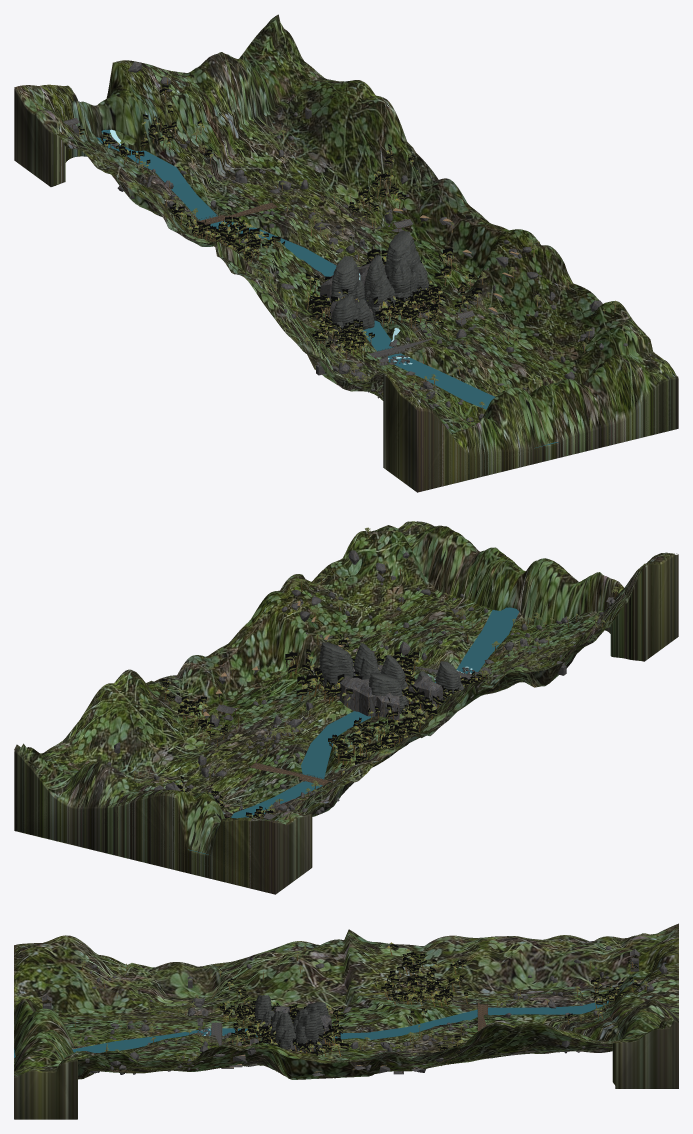
File: world005_LOD1.fbx
3 renders of one model, top to bottom at view 1: azimuth 30°, elevation 25°; view 2: azimuth 150°, elevation 25°; view 3: azimuth 270°, elevation 25°, orthographic. The views are drawn at different scales.
Parts seen in each view (by area): view 1: LODMesh_0434, LODMesh_0433, LODMesh_0570, LODMesh_0567, LODMesh_0569, LODMesh_0535, LODMesh_0564, LODMesh_0568, LODMesh_0561, LODMesh_0555, LODMesh_0566, LODMesh_0571 (+31 smaller); view 2: LODMesh_0433, LODMesh_0434, LODMesh_0568, LODMesh_0570, LODMesh_0567, LODMesh_0535, LODMesh_0569, LODMesh_0564, LODMesh_0571, LODMesh_0566, LODMesh_0561, LODMesh_0563 (+30 smaller); view 3: LODMesh_0434, LODMesh_0433, LODMesh_0536, LODMesh_0540, LODMesh_0538, LODMesh_0537, LODMesh_0539, LODMesh_0541, LODMesh_0535, LODMesh_0570, LODMesh_0568, LODMesh_0545 (+32 smaller).
Part boxes in pixels (x1,y1,x2,y2): LODMesh_0434: [383, 339, 678, 492]; LODMesh_0433: [14, 30, 307, 186]; LODMesh_0570: [300, 80, 409, 195]; LODMesh_0567: [501, 245, 604, 352]; LODMesh_0569: [366, 145, 475, 254]; LODMesh_0535: [96, 129, 558, 448]; LODMesh_0564: [259, 129, 363, 209]; LODMesh_0568: [435, 211, 540, 294]; LODMesh_0561: [461, 297, 566, 370]; LODMesh_0555: [413, 323, 524, 390]; LODMesh_0566: [568, 301, 678, 410]; LODMesh_0571: [239, 14, 338, 130]; LODMesh_0433: [14, 750, 312, 894]; LODMesh_0434: [401, 521, 678, 661]; LODMesh_0568: [215, 586, 325, 693]; LODMesh_0570: [82, 669, 192, 763]; LODMesh_0567: [283, 541, 392, 635]; LODMesh_0535: [188, 607, 519, 854]; LODMesh_0569: [149, 651, 258, 732]; LODMesh_0564: [124, 732, 235, 785]; LODMesh_0571: [14, 715, 126, 799]; LODMesh_0566: [351, 521, 434, 596]; LODMesh_0561: [329, 596, 436, 657]; LODMesh_0563: [195, 692, 304, 747]; LODMesh_0434: [14, 982, 77, 1119]; LODMesh_0433: [609, 933, 678, 1088]; LODMesh_0536: [14, 935, 127, 1014]; LODMesh_0540: [456, 935, 570, 993]; LODMesh_0538: [234, 930, 349, 1003]; LODMesh_0537: [122, 961, 236, 1012]; LODMesh_0539: [343, 929, 458, 990]; LODMesh_0541: [565, 923, 678, 988]; LODMesh_0535: [14, 1000, 608, 1057]; LODMesh_0570: [456, 1022, 570, 1062]; LODMesh_0568: [235, 1043, 348, 1079]; LODMesh_0545: [344, 979, 458, 1018].
Size of the model in its own units: 30002 by 13331 by 80000.
